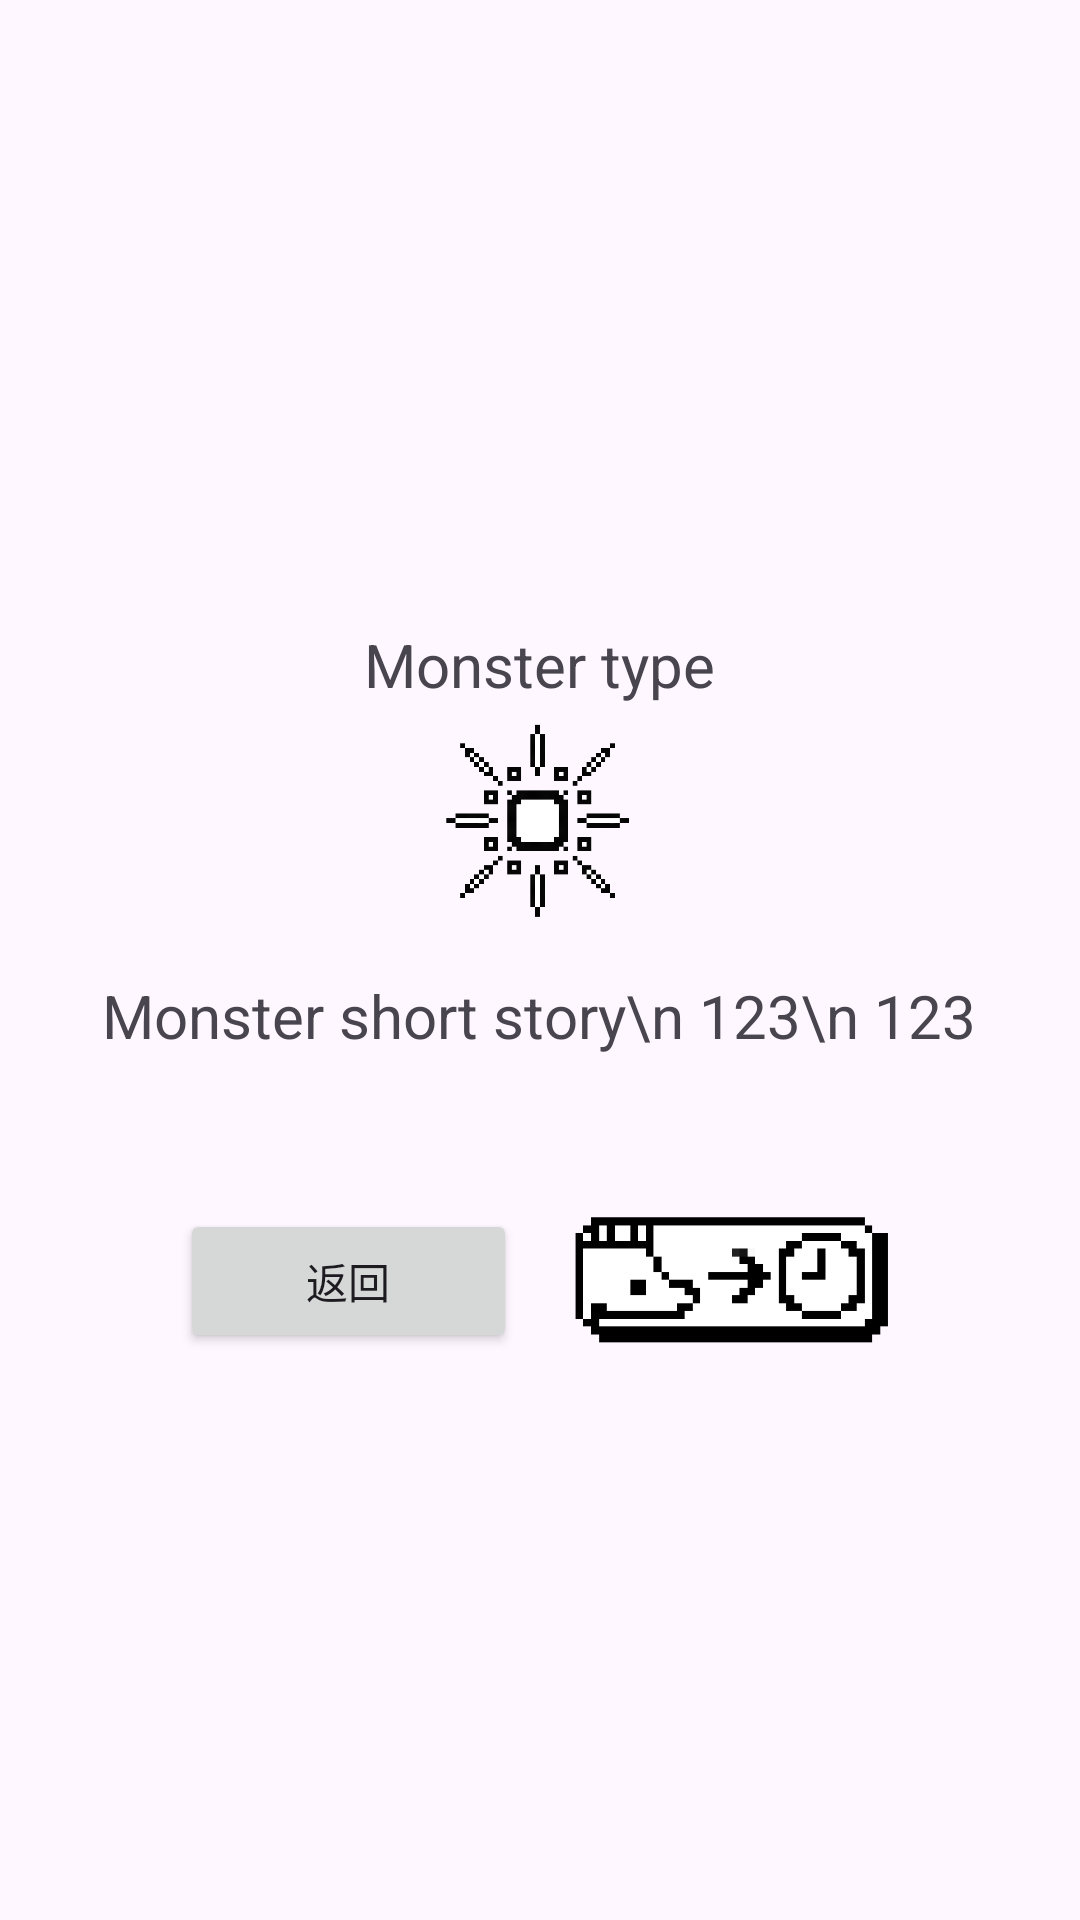

Screen size 1080x1920. Icon name, then its center in pixels as point (x, y):
apply clock: point (731, 1280)
type morning gif: point (537, 820)
